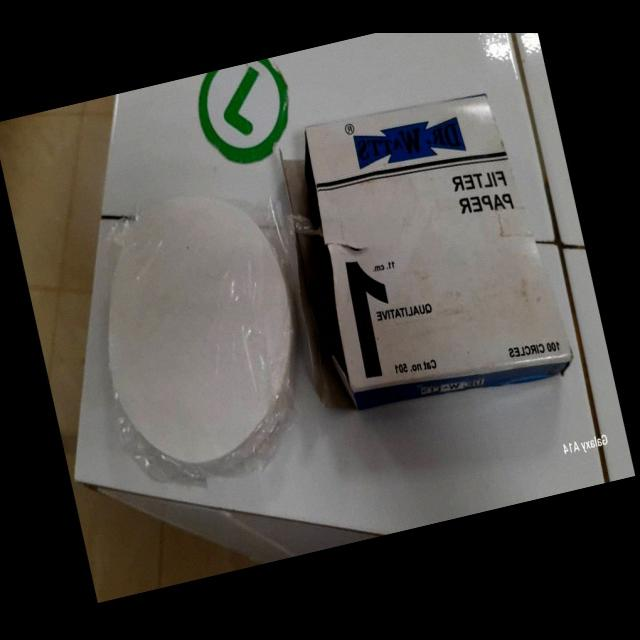Filter paper: (75, 172, 322, 489)
